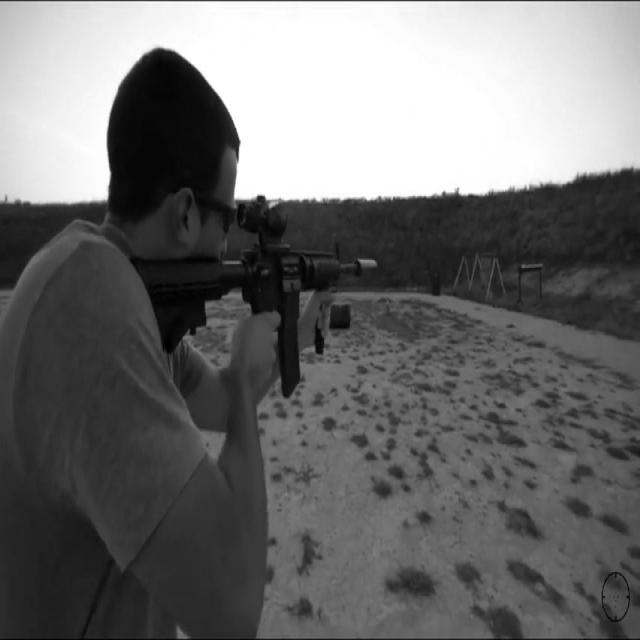Sniper: (96, 128, 398, 468)
